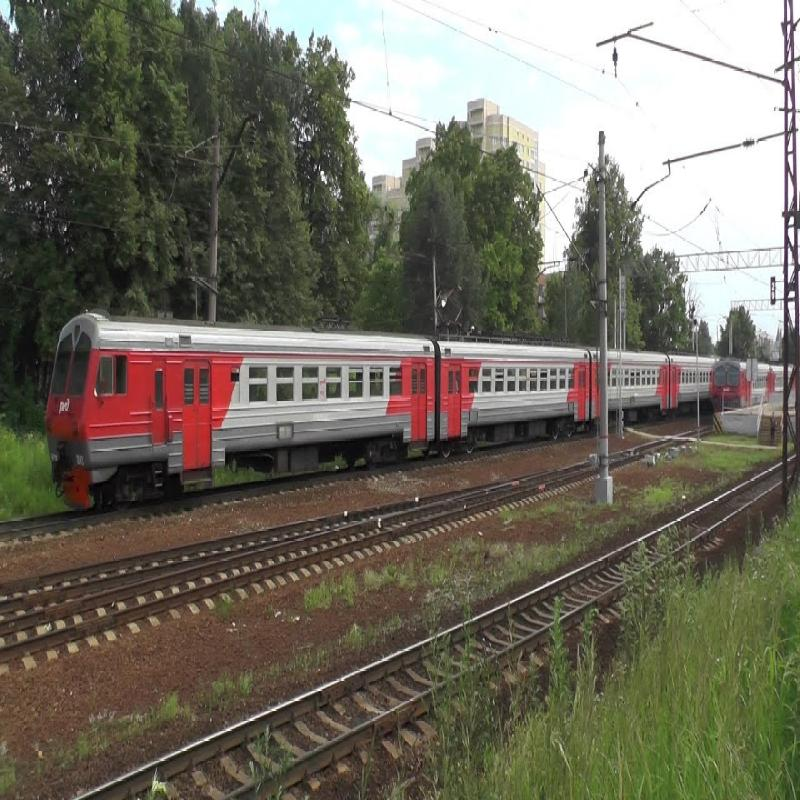train: (36, 277, 440, 525), (421, 314, 598, 486), (591, 339, 677, 428)
